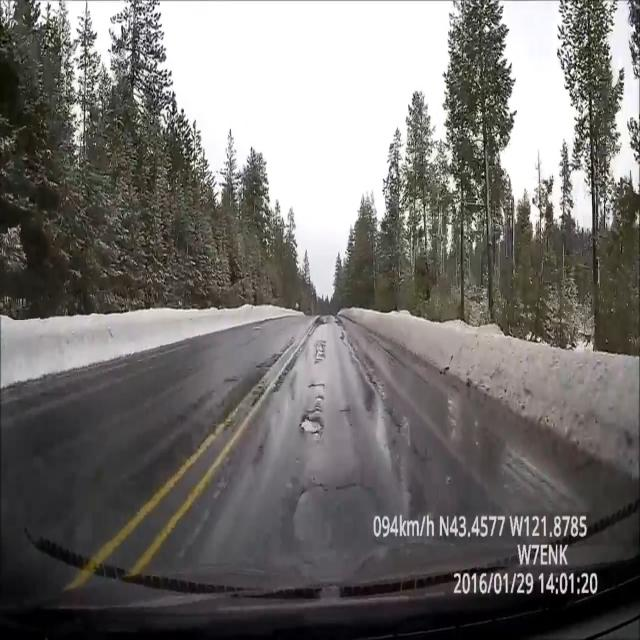Pothole: (299, 406, 329, 450), (305, 377, 330, 394), (314, 335, 326, 364)
